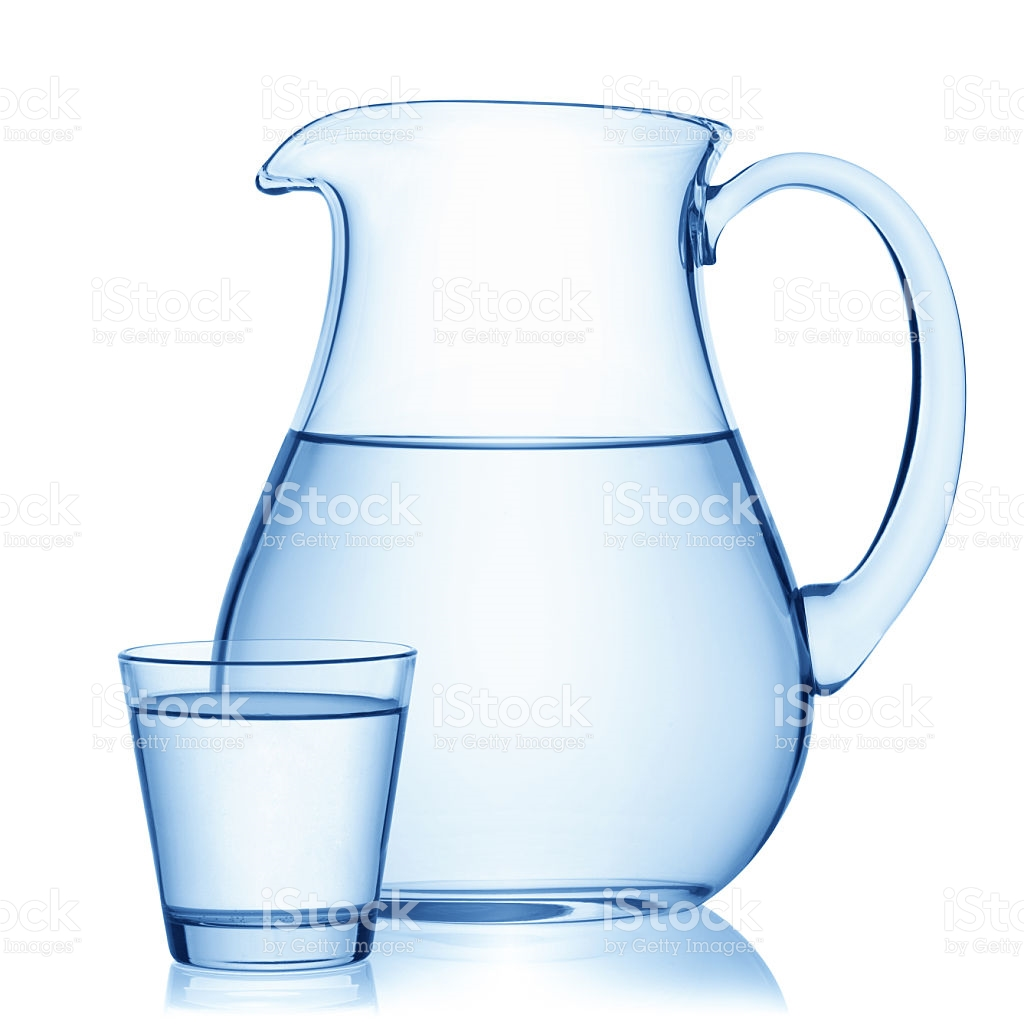glass of water: (116, 639, 408, 969)
